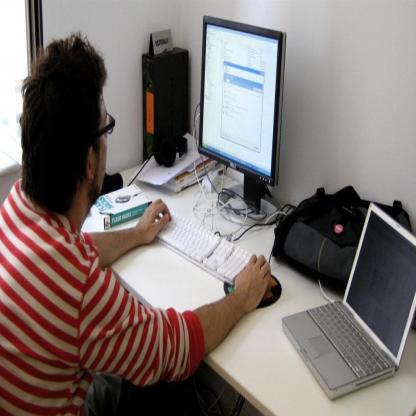board: (281, 204, 416, 400)
